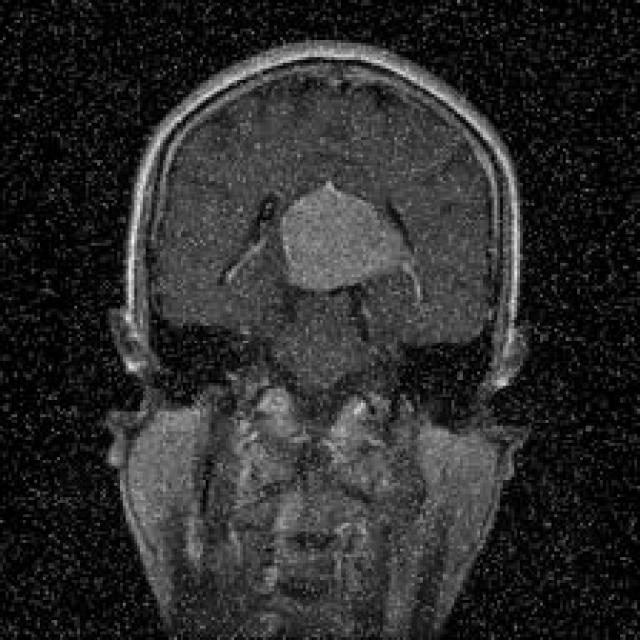meningioma_tumor: (267, 173, 432, 301)
